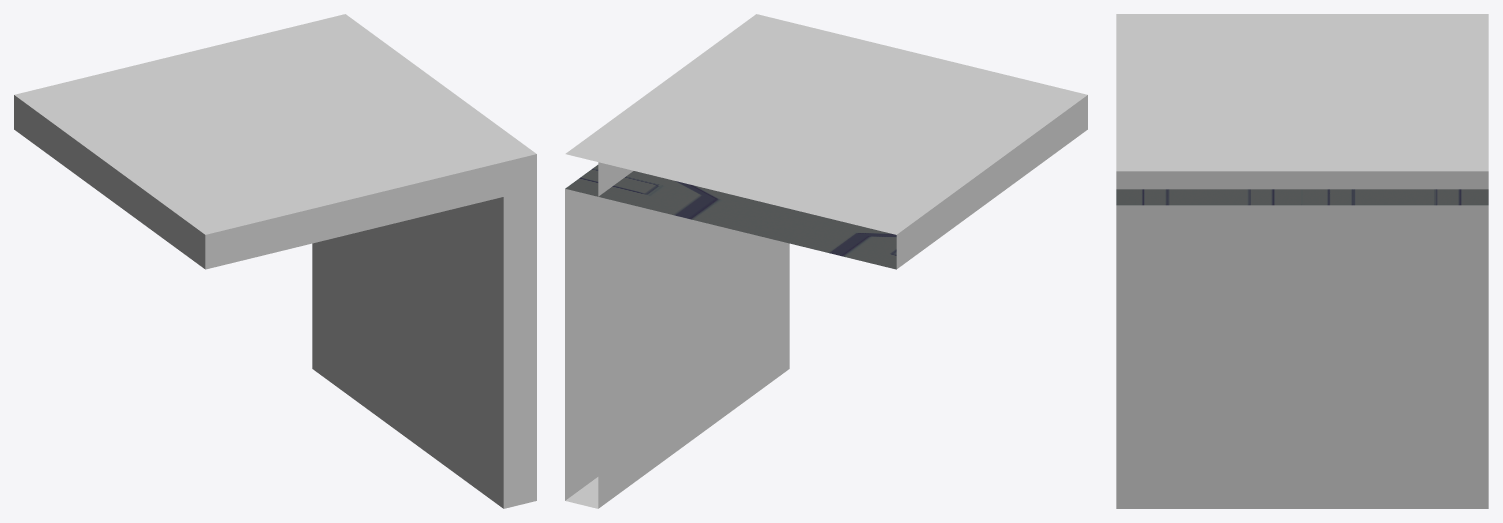
Rendered from tiles_wall_ceiling_east.glb.
3 renders of one model, left to right at view 1: azimuth 30°, elevation 25°; view 2: azimuth 150°, elevation 25°; view 3: azimuth 270°, elevation 25°, orthographic. The views are drawn at different scales.
Visible parts, largest first — view 1: Wall_Roof_East; view 2: Wall_Roof_East; view 3: Wall_Roof_East.
Part boxes in pixels (x1,y1,x2,y2): Wall_Roof_East: [14, 14, 536, 508]; Wall_Roof_East: [565, 14, 1087, 508]; Wall_Roof_East: [1116, 14, 1488, 508].
Bounding box in the file's own units: 2 × 2 × 2.
2 materials, 1 textured.
